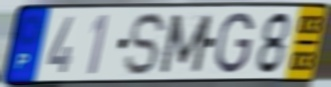1: (87, 12, 110, 77)
4: (45, 15, 75, 75)
8: (255, 8, 293, 78)
G: (213, 10, 256, 76)
M: (157, 12, 215, 75)
S: (122, 10, 171, 78)
